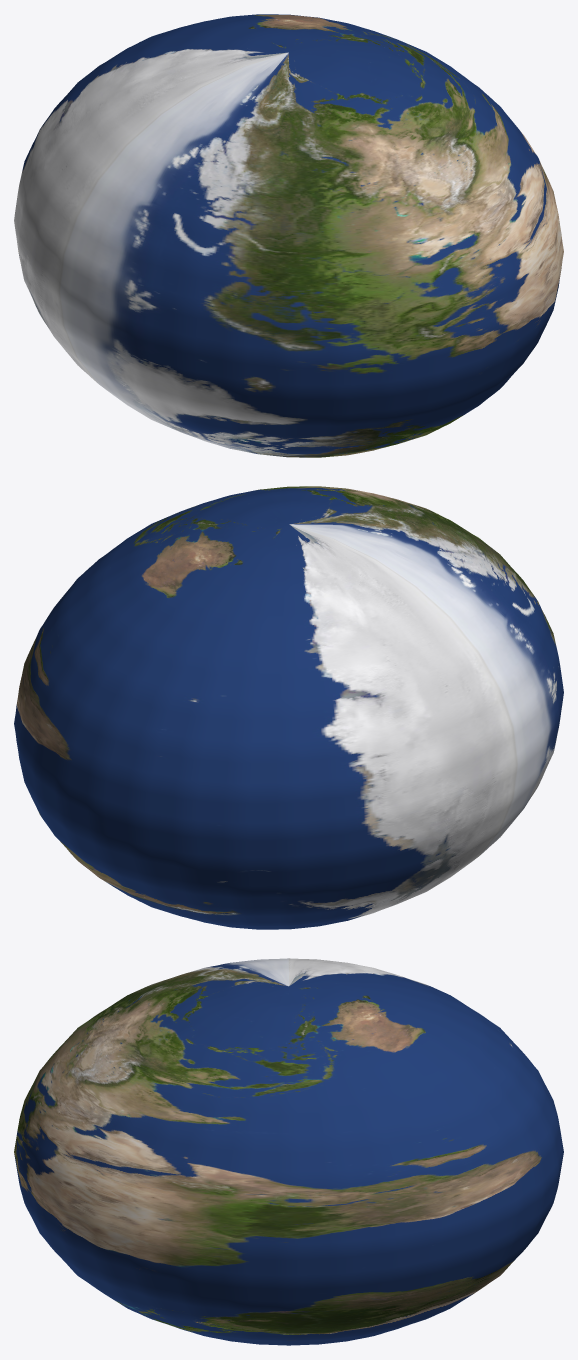
The model's file is Atierra.gltf.
3 renders of one model, top to bottom at view 1: azimuth 30°, elevation 25°; view 2: azimuth 150°, elevation 25°; view 3: azimuth 270°, elevation 25°, orthographic. The views are drawn at different scales.
Visible parts, largest first — view 1: Sphere; view 2: Sphere; view 3: Sphere.
Boxes of the visible parts, x1,y1,x2,y2 form: Sphere: (14,14,563,457); Sphere: (14,486,563,929); Sphere: (14,958,563,1345).
Bounding box in the file's own units: 1.73 × 1.33 × 2.
1 material, 1 textured.
